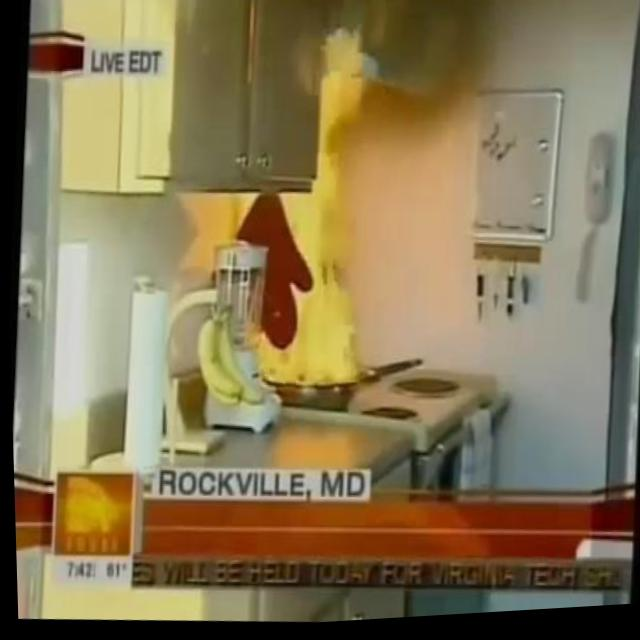fire: (246, 26, 393, 396)
